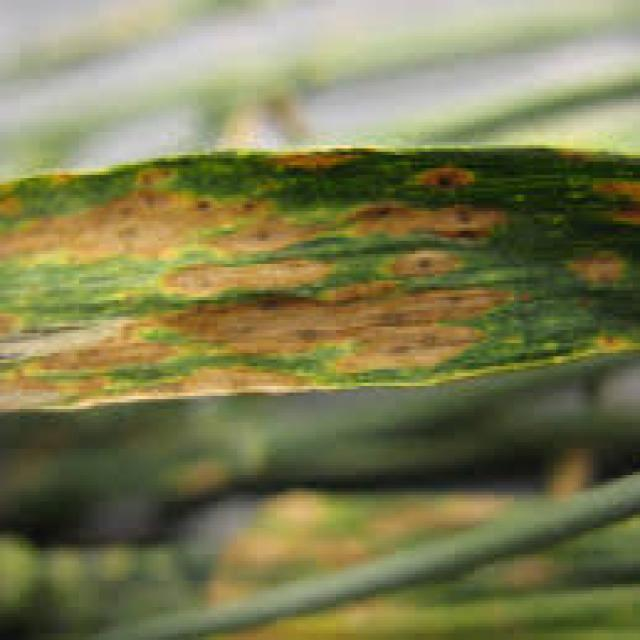leaf_blight: (0, 152, 638, 406)
